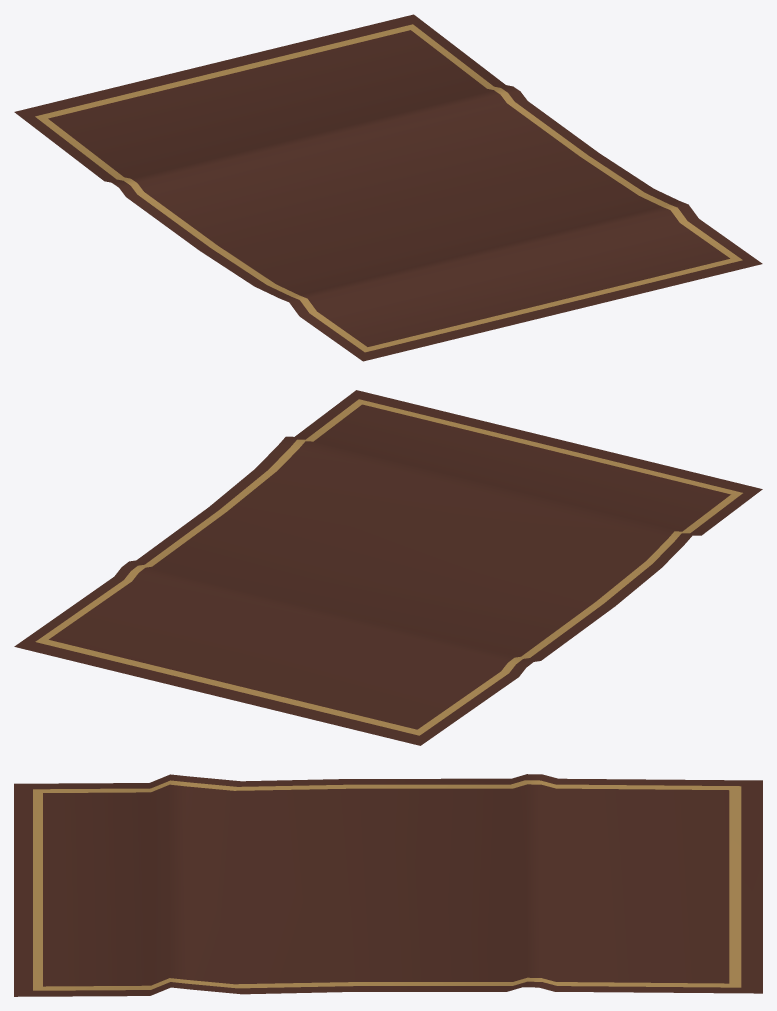
File: Carpet_1.glb
The picture shows the model from 3 angles, top to bottom: view 1: azimuth 30°, elevation 25°; view 2: azimuth 150°, elevation 25°; view 3: azimuth 270°, elevation 25°; orthographic projection. The views are drawn at different scales.
Parts seen in each view (by area): view 1: Carpet_1; view 2: Carpet_1; view 3: Carpet_1.
Part boxes in pixels (x1,y1,x2,y2): Carpet_1: (14, 14, 762, 361); Carpet_1: (14, 390, 762, 745); Carpet_1: (14, 774, 762, 996).
Size of the model in its own units: 1.04 by 0.0179 by 1.51.
2 materials, 2 textured.
